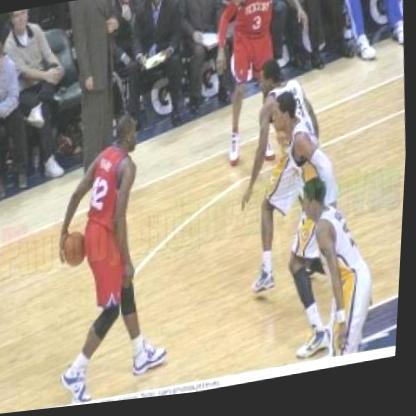basketball: (56, 228, 98, 273)
